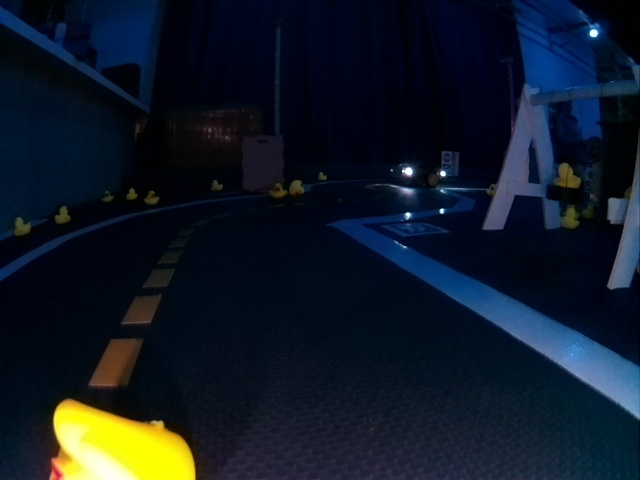Duckie: (51, 400, 196, 479), (555, 164, 581, 187), (562, 208, 579, 227), (14, 217, 31, 234), (269, 183, 286, 198), (289, 180, 304, 196), (55, 208, 71, 223), (145, 191, 159, 204), (211, 179, 223, 190), (126, 188, 136, 199), (102, 191, 111, 201), (317, 171, 326, 180)
Duckiebot: (391, 160, 447, 188)
QR code: (382, 223, 449, 237)
